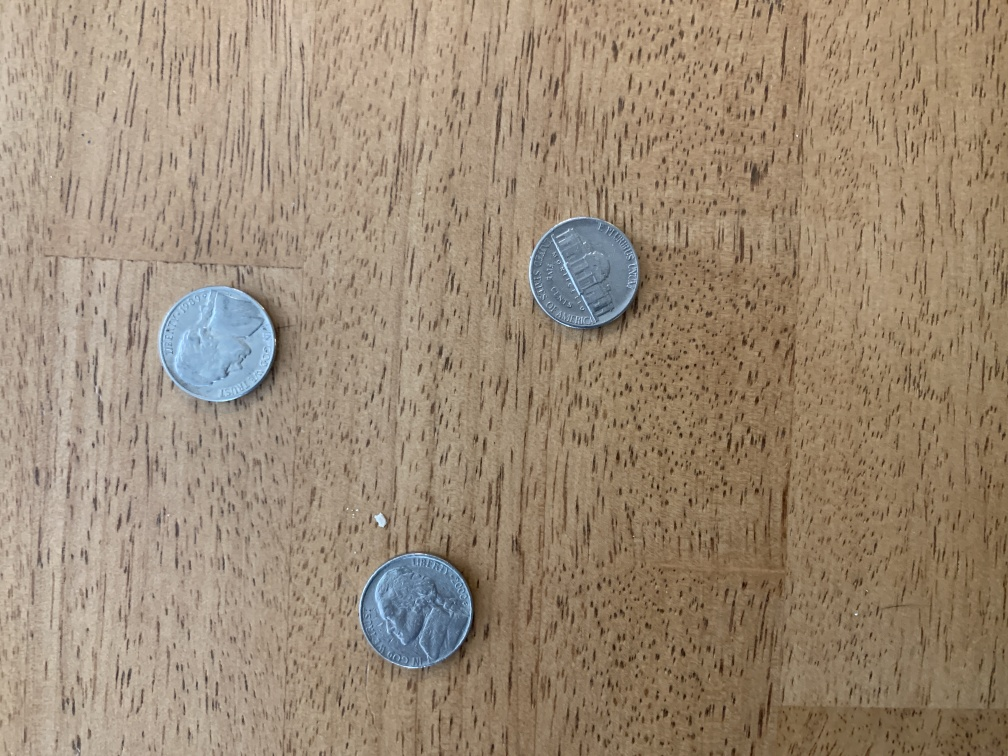nickel: (354, 545, 478, 681), (158, 281, 283, 406), (524, 211, 643, 336)
